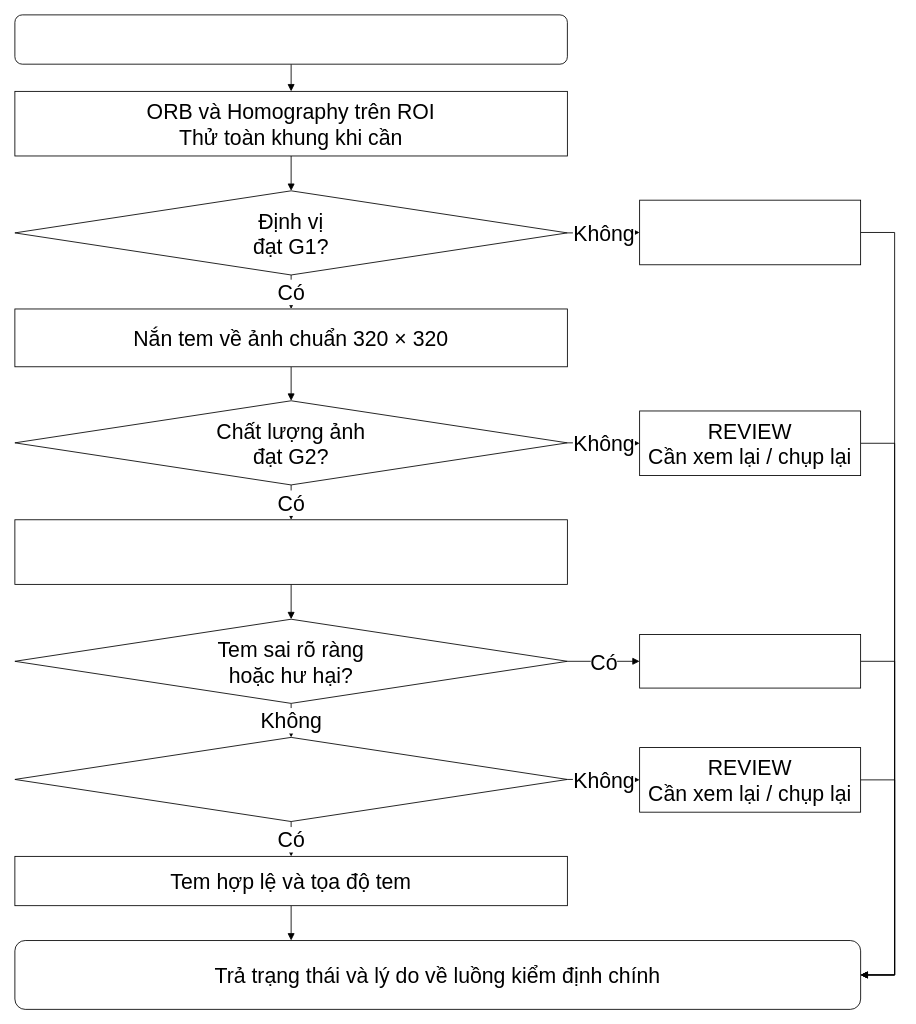
Image size: 916x1024. Some labels were removed from this diagram. The centre of each missing label's shape, as x and y in pixels:
Các phép đối chiếu đều đạt G3?: point (290, 779)
Có hộp → DEFECT Không hộp → REVIEW: point (750, 232)
DEFECT: point (750, 661)
Nhận ảnh và vùng hộp từ Tầng 1: point (290, 39)
Đối chiếu NCC các vùng tem Kiểm tra QC, năm và hư hại: point (290, 551)
